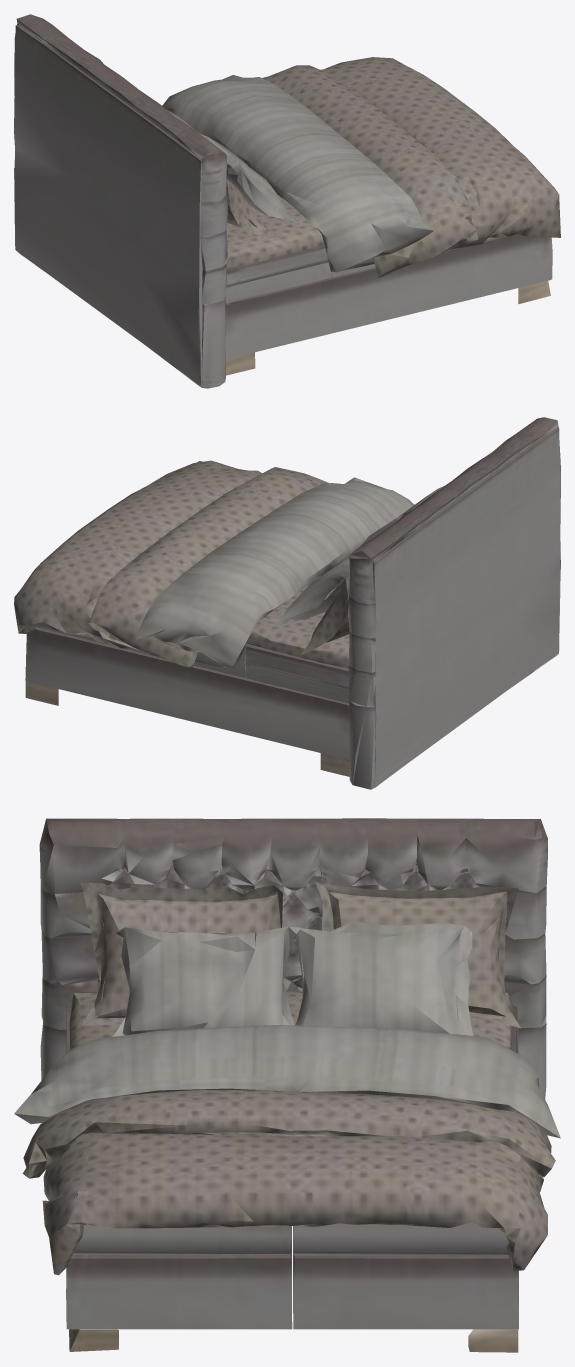
Rendered from Bed0007.obj.
The picture shows the model from 3 angles, top to bottom: view 1: azimuth 30°, elevation 25°; view 2: azimuth 150°, elevation 25°; view 3: azimuth 270°, elevation 25°; orthographic projection. The views are drawn at different scales.
Bounding box in the file's own units: 2.1 × 1.28 × 2.04.
1 material, 1 textured.
